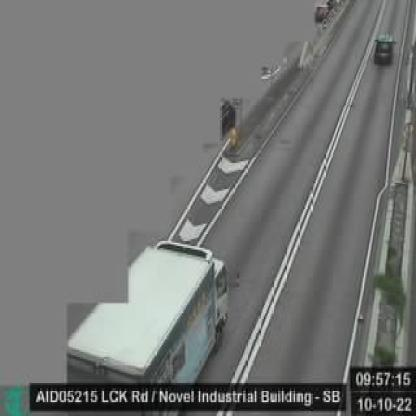Car: (374, 33, 396, 64)
Truck: (62, 243, 228, 406)
